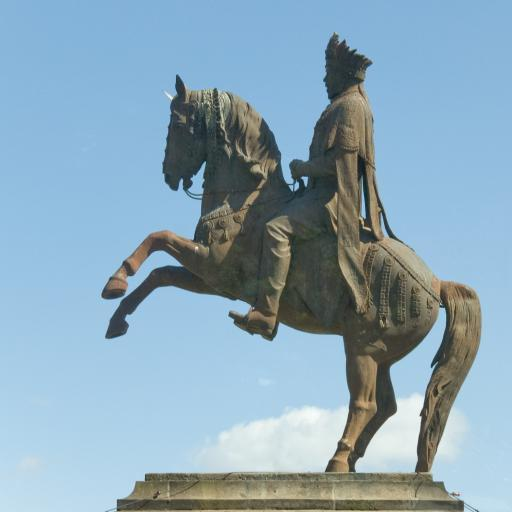horse: (99, 72, 483, 474)
